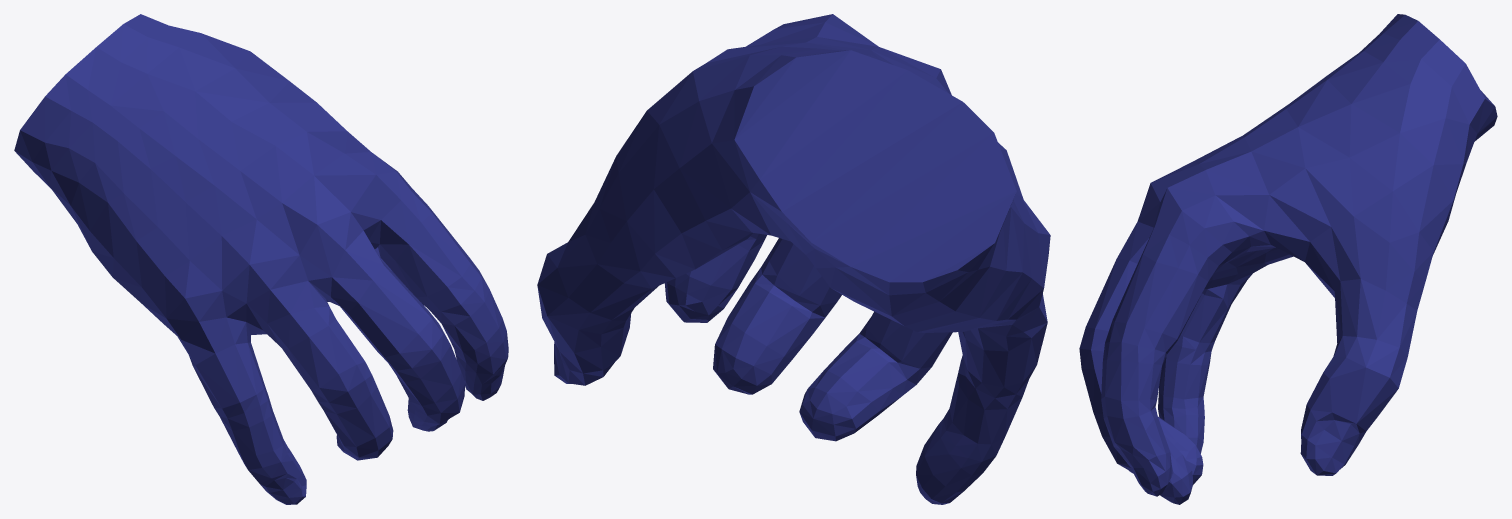
3 renders of one model, left to right at view 1: azimuth 30°, elevation 25°; view 2: azimuth 150°, elevation 25°; view 3: azimuth 270°, elevation 25°, orthographic. The views are drawn at different scales.
Size of the model in its own units: 0.1285 by 0.1388 by 0.1227.
